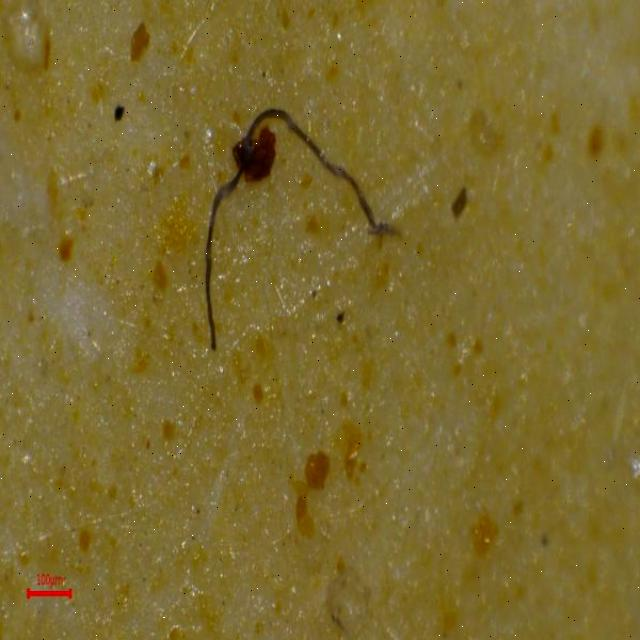Fibre: (196, 98, 410, 352)
